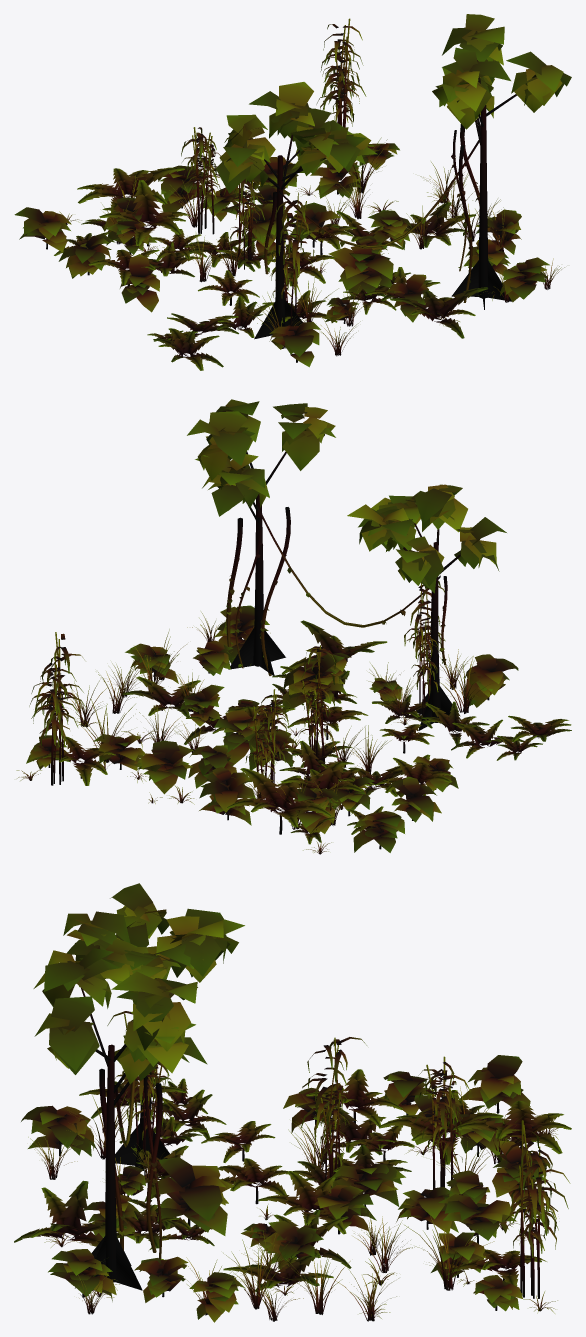
File: patch_secondary.glb
The picture shows the model from 3 angles, top to bottom: view 1: azimuth 30°, elevation 25°; view 2: azimuth 150°, elevation 25°; view 3: azimuth 270°, elevation 25°; orthographic projection. The views are drawn at different scales.
Visible parts, largest first — view 1: patch_secondary; view 2: patch_secondary; view 3: patch_secondary.
Boxes of the visible parts, x1,y1,x2,y2 form: patch_secondary: (14, 14, 571, 370); patch_secondary: (16, 399, 571, 854); patch_secondary: (14, 883, 571, 1322).
Size of the model in its own units: 17.52 by 10.81 by 17.05.
1 material, 1 textured.
